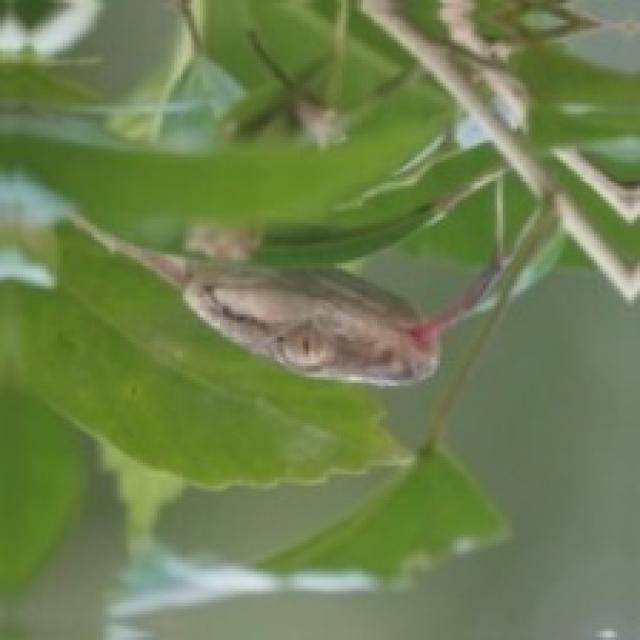dog-toothed cat snake: (69, 211, 463, 383)
